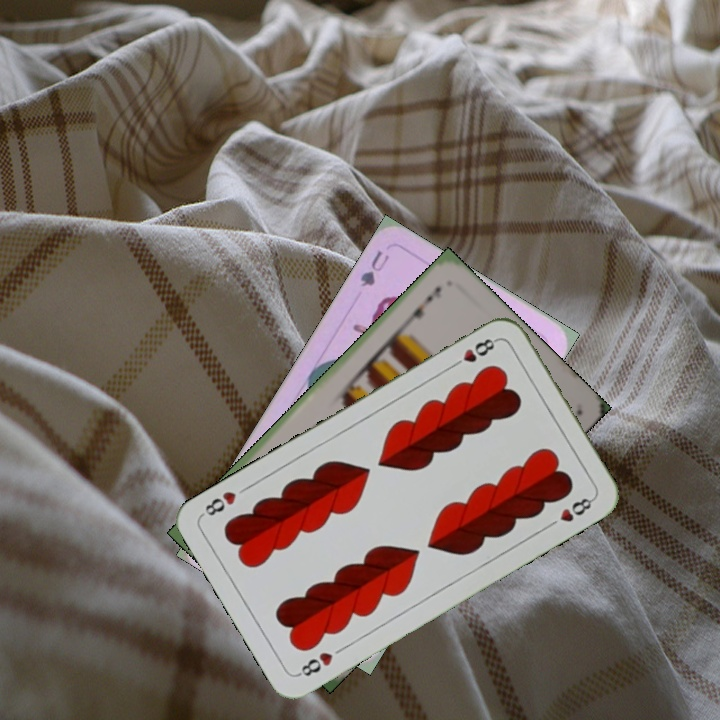E7: (401, 282, 444, 327)
GU: (356, 246, 392, 290)
H8: (447, 334, 501, 371), (293, 648, 336, 679)
